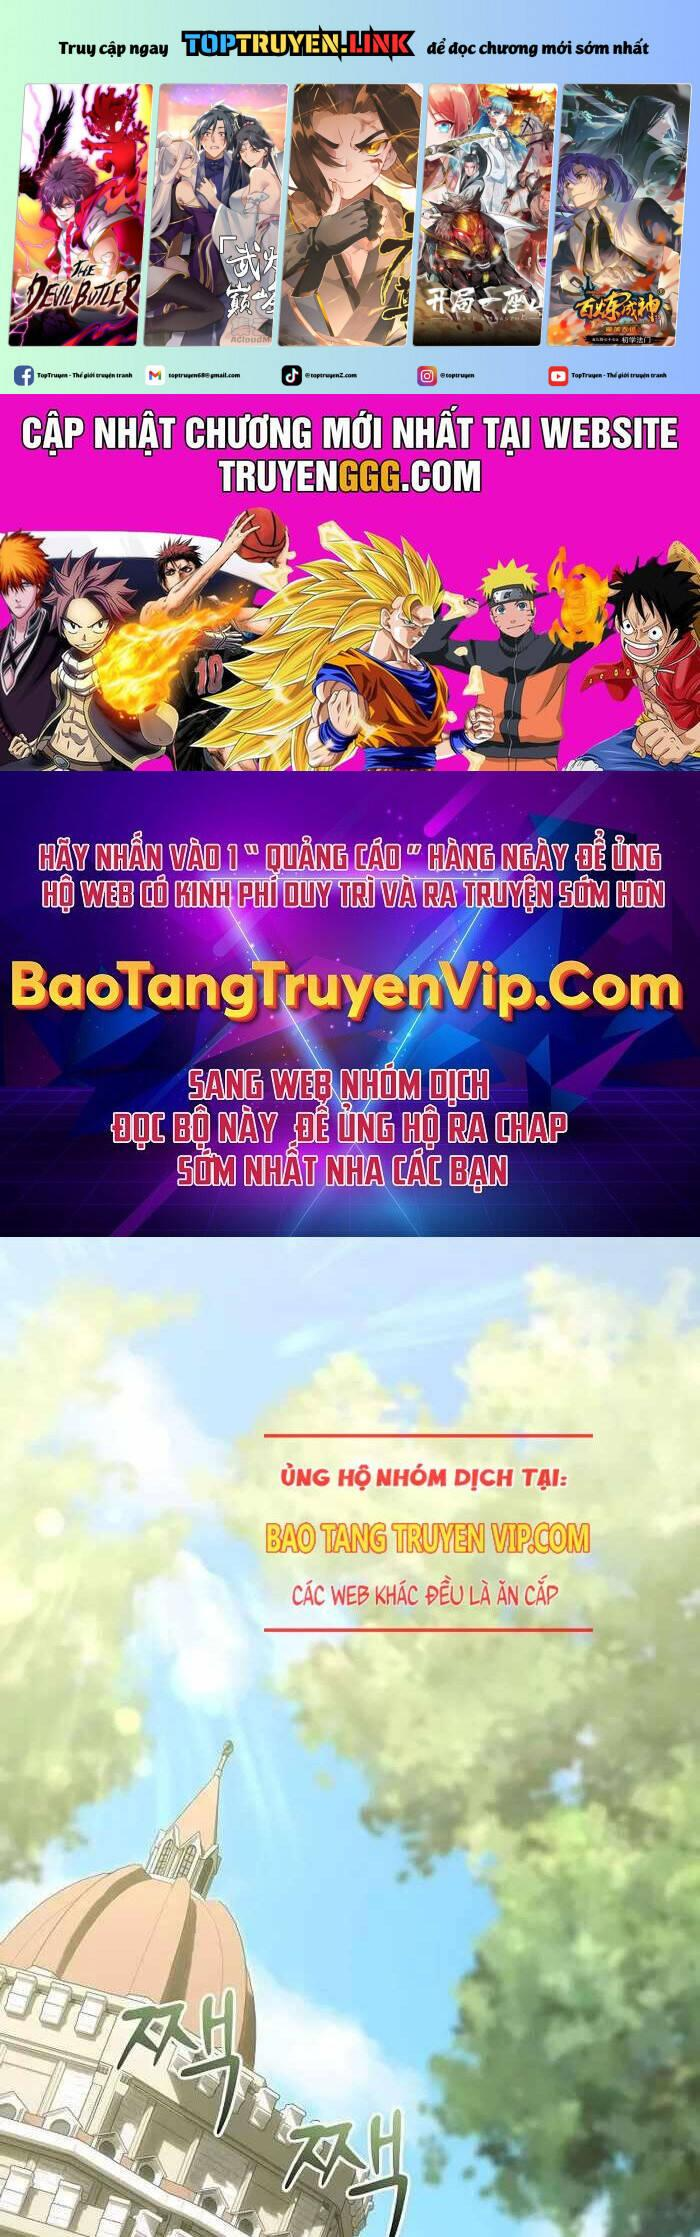quangcao: (3, 0, 700, 1253), (254, 1420, 600, 1634)
